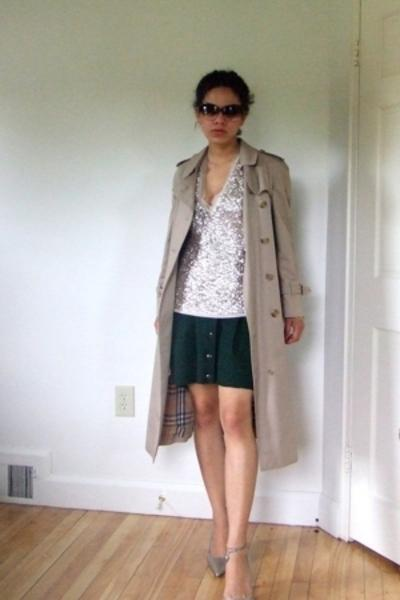jacket: (145, 143, 314, 471)
shirt: (167, 160, 249, 317)
skirt: (168, 312, 251, 393)
